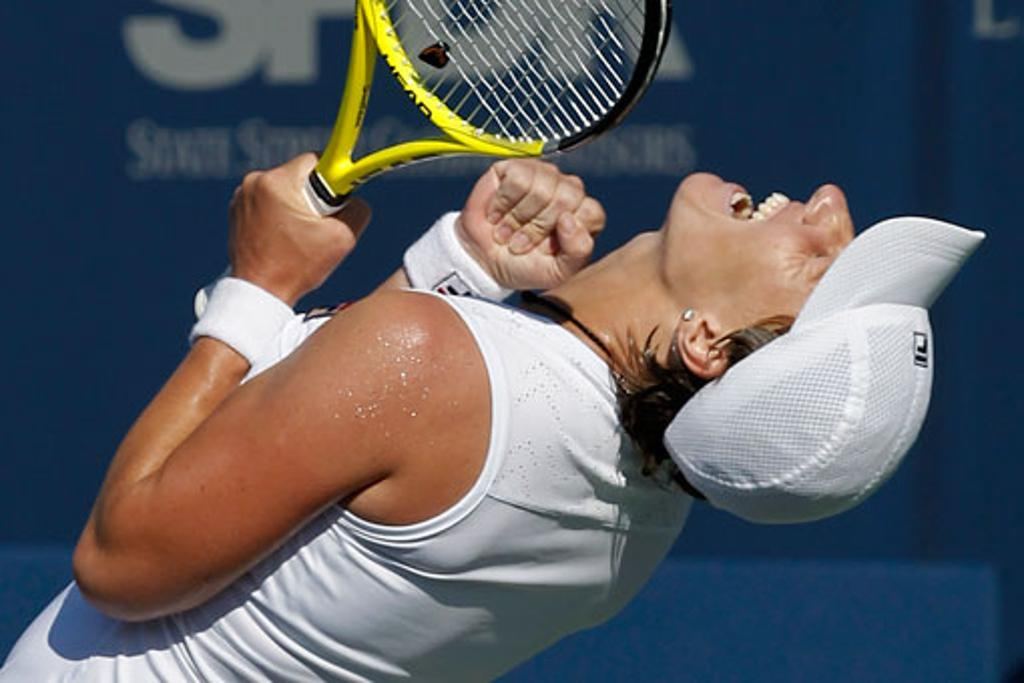face: (660, 168, 892, 316)
